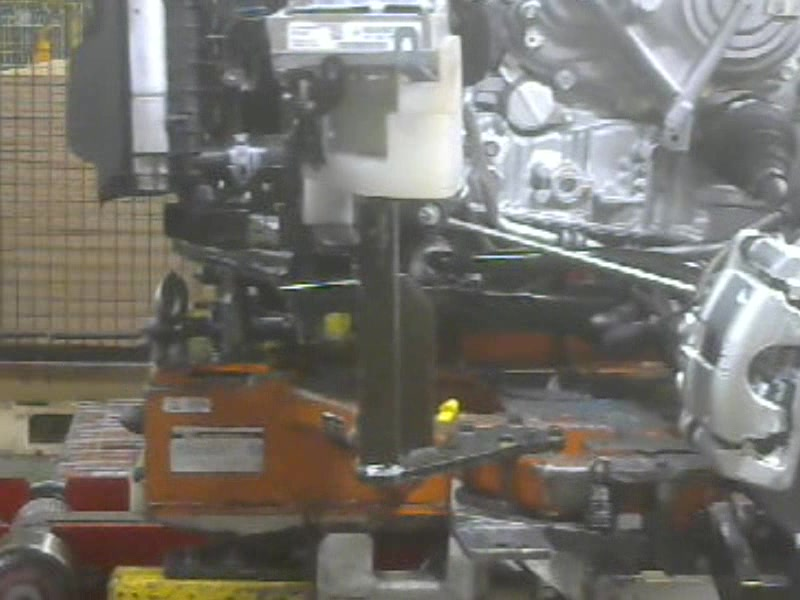P3: (669, 224, 800, 494)
